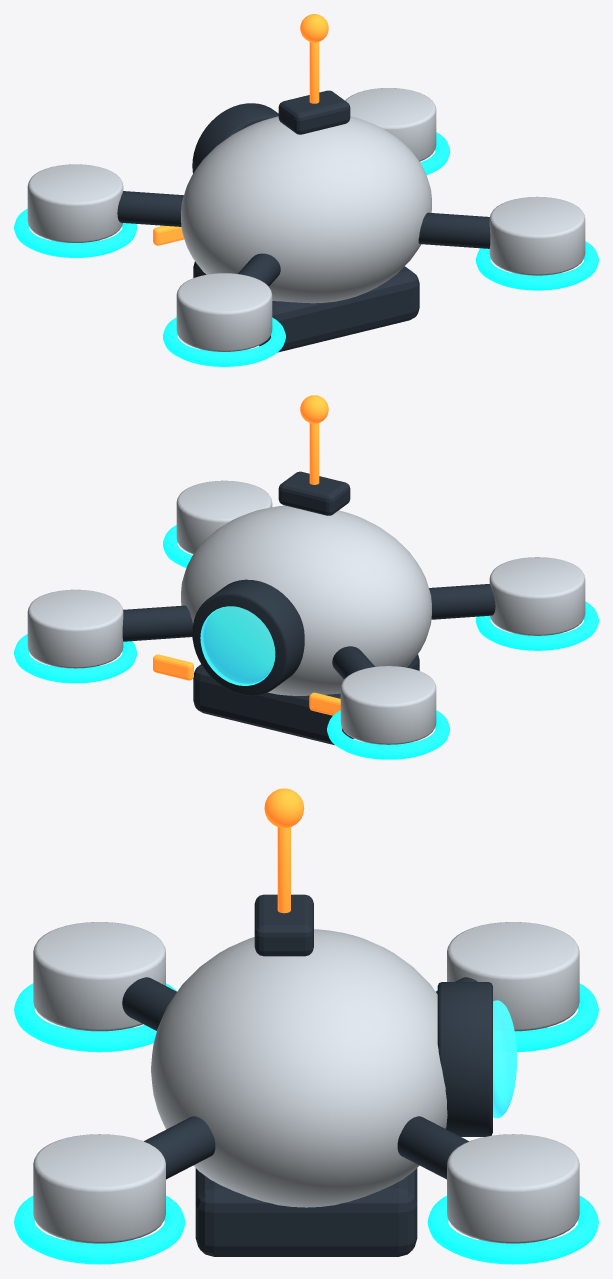
Rendered from scifi_drone_bot.glb.
3 views of the same model, one above another, from view 1: azimuth 30°, elevation 25°; view 2: azimuth 150°, elevation 25°; view 3: azimuth 270°, elevation 25° (orthographic). The views are drawn at different scales.
Visible parts, largest first — view 1: Drone_CentralShell, Drone_RotorPod_1, Drone_RotorPod_2, Drone_RotorPod_3, Drone_VentralChassis, Drone_RotorPod_4, Drone_ThrusterRing_1, Drone_ThrusterRing_2, Drone_TopAntennaBase, Drone_Arm_2, Drone_ThrusterRing_3, Drone_Arm_3 (+6 smaller); view 2: Drone_CentralShell, Drone_MainEyeHousing, Drone_RotorPod_3, Drone_RotorPod_4, Drone_RotorPod_1, Drone_VentralChassis, Drone_MainEyeLens, Drone_RotorPod_2, Drone_ThrusterRing_3, Drone_ThrusterRing_4, Drone_TopAntennaBase, Drone_Arm_4 (+8 smaller); view 3: Drone_CentralShell, Drone_VentralChassis, Drone_RotorPod_2, Drone_RotorPod_4, Drone_RotorPod_1, Drone_RotorPod_3, Drone_MainEyeHousing, Drone_ThrusterRing_2, Drone_ThrusterRing_4, Drone_TopAntennaBase, Drone_ThrusterRing_1, Drone_Arm_2 (+6 smaller).
Part boxes in pixels (x1,y1,x2,y2): Drone_CentralShell: [181, 116, 431, 303]; Drone_RotorPod_1: [176, 273, 272, 351]; Drone_RotorPod_2: [489, 196, 585, 275]; Drone_RotorPod_3: [27, 164, 123, 242]; Drone_VentralChassis: [193, 261, 419, 352]; Drone_RotorPod_4: [345, 88, 436, 161]; Drone_ThrusterRing_1: [163, 317, 285, 366]; Drone_ThrusterRing_2: [476, 241, 598, 290]; Drone_TopAntennaBase: [278, 90, 350, 134]; Drone_Arm_2: [418, 212, 490, 248]; Drone_ThrusterRing_3: [14, 208, 136, 257]; Drone_Arm_3: [117, 191, 183, 226]; Drone_CentralShell: [181, 505, 431, 695]; Drone_MainEyeHousing: [192, 579, 304, 695]; Drone_RotorPod_3: [340, 666, 436, 744]; Drone_RotorPod_4: [27, 589, 123, 668]; Drone_RotorPod_1: [489, 557, 585, 635]; Drone_VentralChassis: [193, 654, 419, 745]; Drone_MainEyeLens: [200, 606, 275, 685]; Drone_RotorPod_2: [176, 480, 272, 554]; Drone_ThrusterRing_3: [327, 710, 449, 759]; Drone_ThrusterRing_4: [14, 634, 136, 683]; Drone_TopAntennaBase: [278, 471, 350, 515]; Drone_Arm_4: [122, 605, 192, 641]; Drone_CentralShell: [151, 929, 447, 1207]; Drone_VentralChassis: [195, 1168, 417, 1256]; Drone_RotorPod_2: [33, 1134, 165, 1243]; Drone_RotorPod_4: [447, 1134, 579, 1243]; Drone_RotorPod_1: [33, 922, 165, 1031]; Drone_RotorPod_3: [447, 922, 579, 1031]; Drone_MainEyeHousing: [437, 982, 492, 1136]; Drone_ThrusterRing_2: [14, 1195, 185, 1264]; Drone_ThrusterRing_4: [427, 1195, 598, 1264]; Drone_TopAntennaBase: [254, 894, 313, 956]; Drone_ThrusterRing_1: [14, 983, 176, 1052]; Drone_Arm_2: [144, 1116, 215, 1179].
Bounding box in the file's own units: 0.912 × 0.627 × 0.792.
